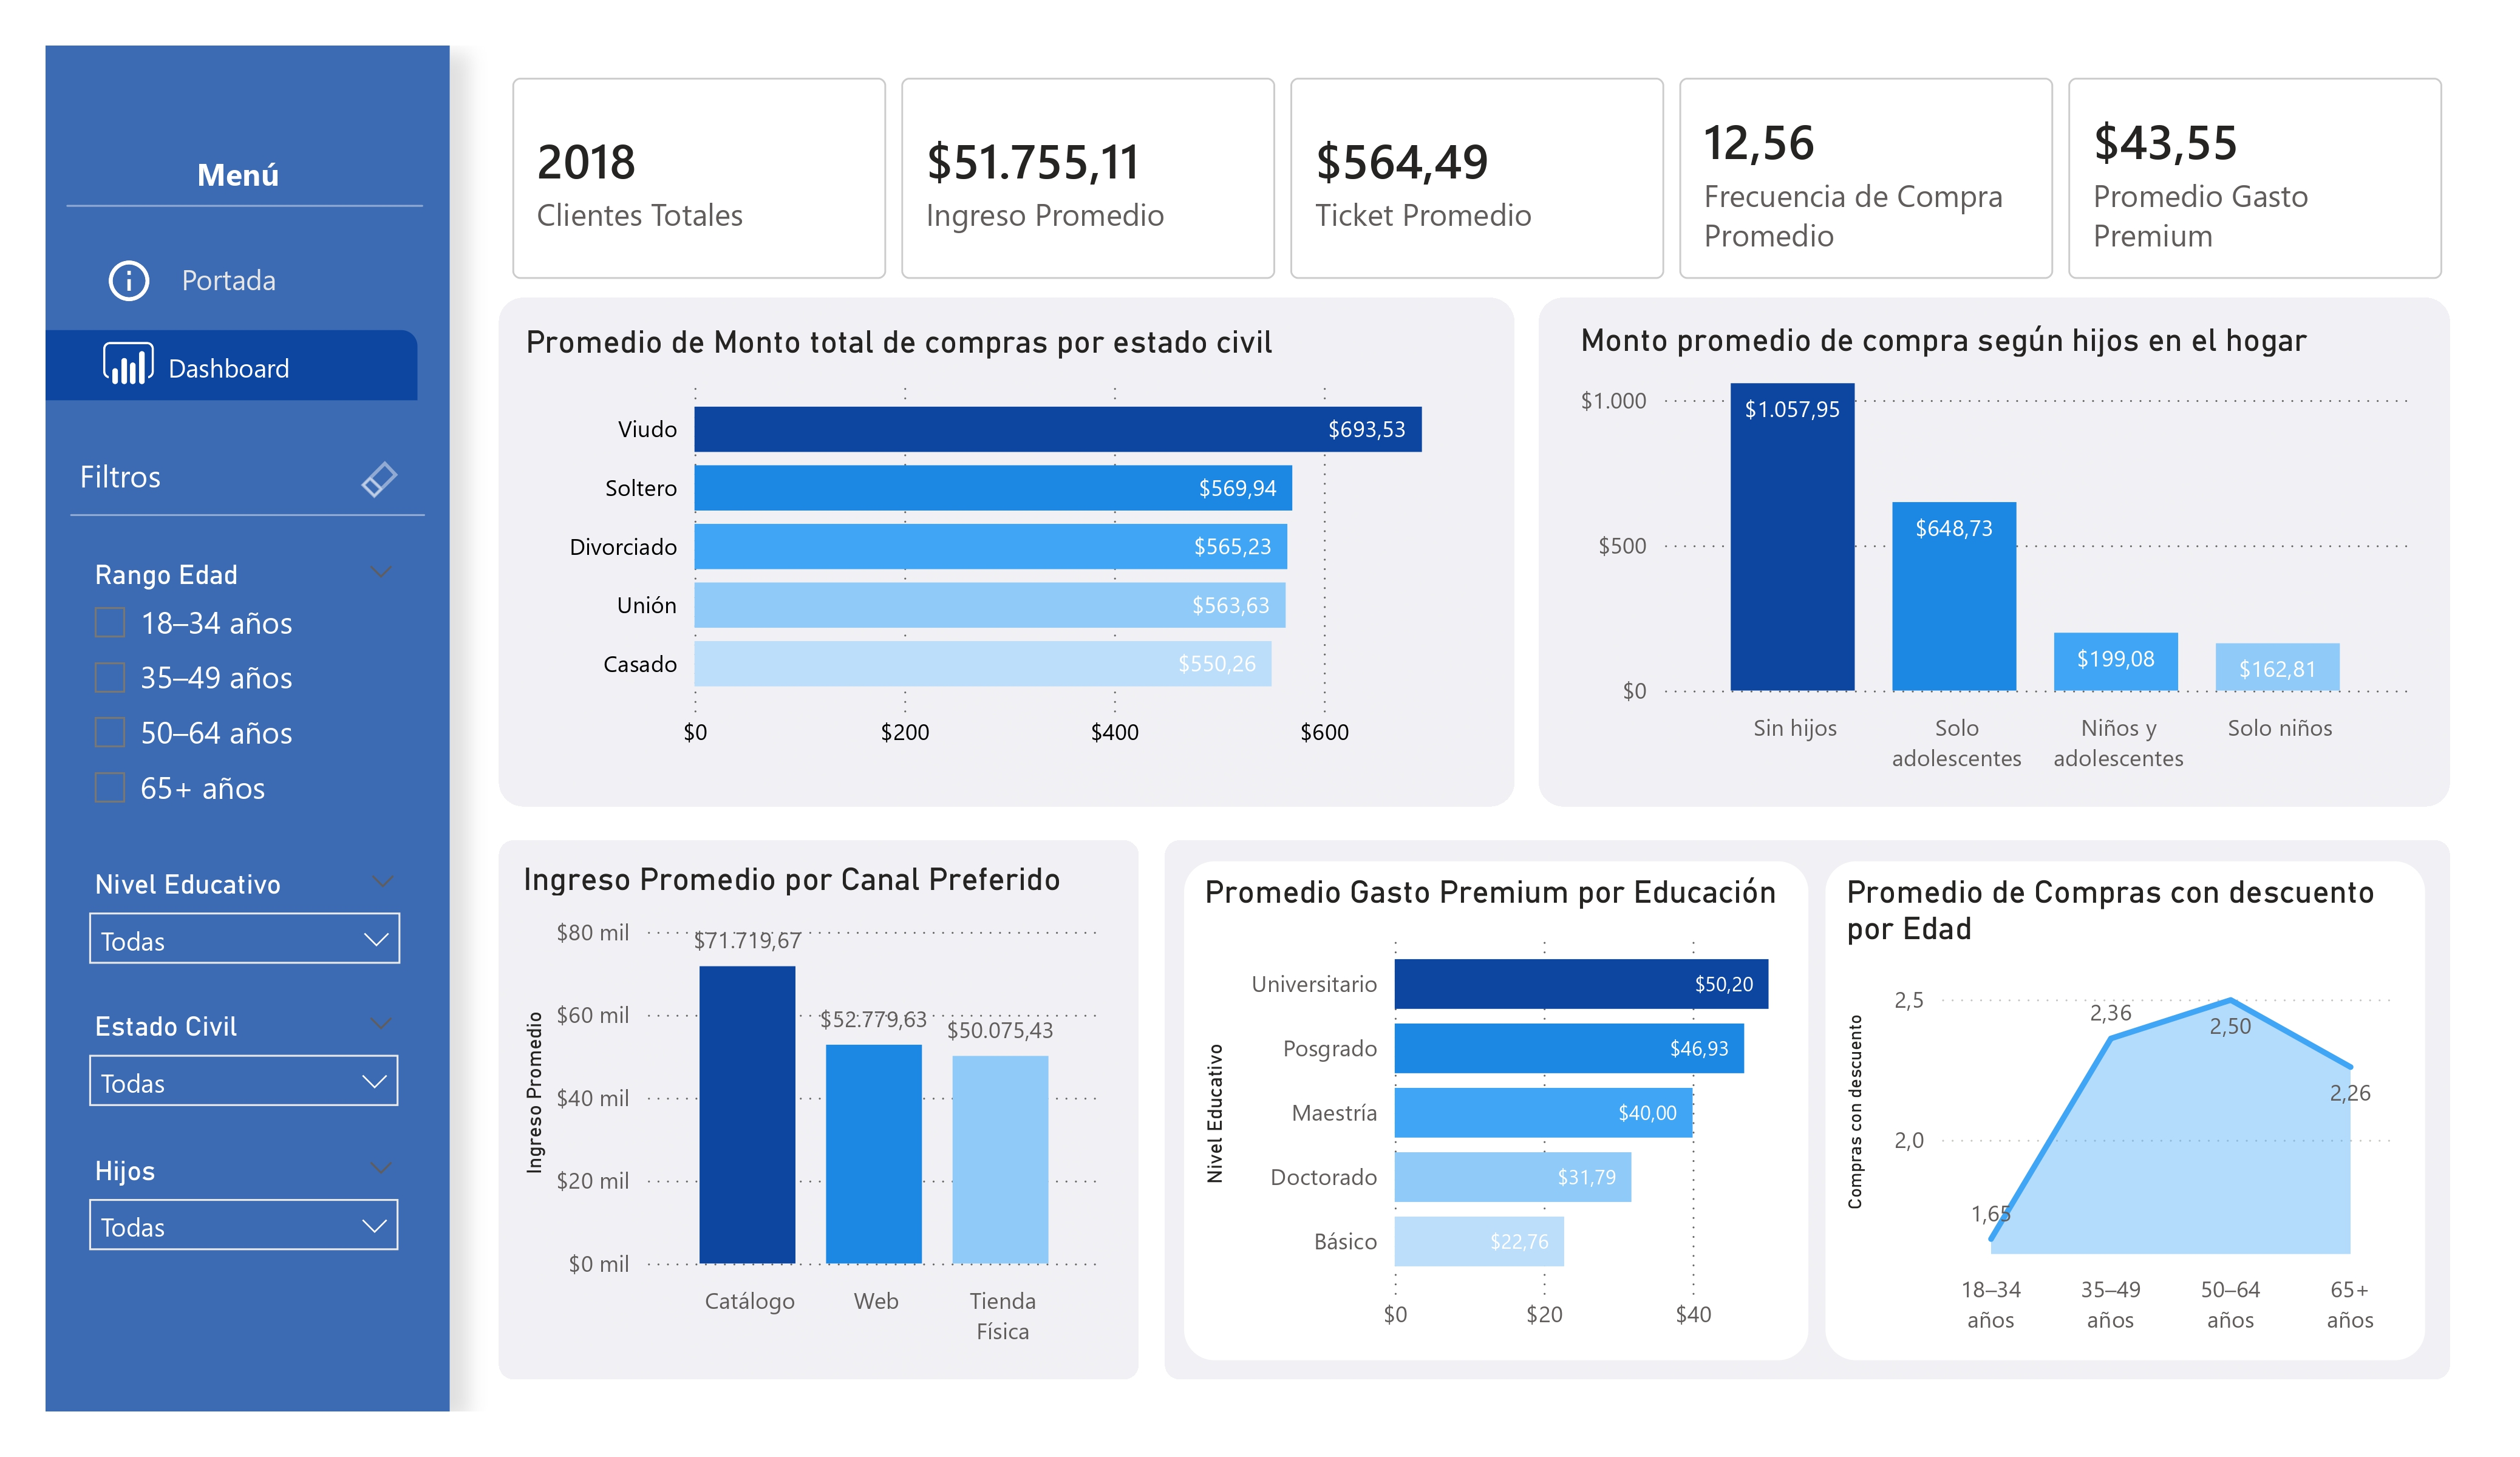

The page's visual inventory and layout, read from the dashboard file:
{"tool":"powerbi","page":{"name":"Dashboard","canvas":[1280,720],"ordinal":1},"visuals":[{"type":"image","box":[590,418.6,677.1,284.3],"z":0},{"type":"image","box":[238.6,418.6,337.1,284.3],"z":1000},{"type":"image","box":[238.6,132.9,535.7,268.6],"z":2000},{"type":"image","box":[787.1,132.9,480,268.6],"z":3000},{"type":"cardVisual","fields":{"Data":["dataset.Clientes Totales","dataset.Ingreso Promedio","dataset.Ticket Promedio","dataset.Frecuencia Compra Promedio","dataset.Mediana Gasto Premium por Cliente"]},"box":[228.6,0,1051.4,140],"z":4000},{"type":"clusteredColumnChart","title":"Monto promedio de compra según hijos en el hogar","fields":{"Category":["dataset.Categoría Hijos"],"Y":["dataset.Ticket Promedio"]},"box":[803.8,145,447.5,246.2],"z":5000},{"type":"shape","box":[0,0,213.3,720],"z":6000},{"type":"textbox","box":[12.9,52.4,177.1,32.9],"z":7000},{"type":"pageNavigator","box":[0,102.9,196.7,85],"z":8000},{"type":"image","box":[28.6,152.9,30,28.6],"z":9000},{"type":"image","box":[31.4,111.4,25.7,25.7],"z":10000},{"type":"textbox","box":[13.2,210.7,68.8,35.1],"z":11000},{"type":"actionButton","box":[162.3,213.1,27.7,30.8],"z":12000},{"type":"shape","box":[12.5,241.2,187.5,12.5],"z":13000},{"type":"slicer","fields":{"Values":["dataset.Rango de Edad"]},"box":[12.9,265.7,182.9,181.4],"z":14000},{"type":"slicer","fields":{"Values":["dataset.Education"]},"box":[12.9,429,183.8,68.8],"z":15000},{"type":"slicer","fields":{"Values":["dataset.Marital_Status"]},"box":[12.9,504.3,182.9,68.6],"z":16000},{"type":"slicer","fields":{"Values":["dataset.Categoría Hijos"]},"box":[12.9,580,182.9,68.6],"z":17000},{"type":"barChart","title":"Promedio de Monto total de compras por estado civil","fields":{"Category":["dataset.Marital_Status"],"Y":["dataset.Ticket Promedio"]},"box":[247.5,146.2,540,242.5],"z":18000},{"type":"shape","box":[11.4,78.1,187.1,12.9],"z":19000},{"type":"clusteredColumnChart","title":"Ingreso Promedio por Canal Preferido","fields":{"Category":["dataset.CanalPreferido"],"Y":["dataset.Ingreso Promedio"]},"box":[247.4,429.2,315.9,263.7],"z":20000},{"type":"areaChart","title":"Promedio de Compras con descuento por Edad","fields":{"Category":["dataset.Rango Edad"],"Y":["Avg(dataset.NumDealsPurchases)"]},"box":[937.5,430,316.2,262.5],"z":21000},{"type":"clusteredBarChart","title":"Promedio Gasto Premium por Educación","fields":{"Category":["dataset.Education"],"Y":["dataset.Mediana Gasto Premium por Cliente"]},"box":[600,430,328.8,262.5],"z":22000}]}

Visuals, with their boxes on the page's 1280x720 design canvas (x1, y1, x2, y2). These are canvas units, not pixel positions in the 2520x1457 screenshot, which may show the page scaled, cropped or inside an application window:
image: <box>590,419,1267,703</box>
image: <box>239,419,576,703</box>
image: <box>239,133,774,402</box>
image: <box>787,133,1267,402</box>
cardVisual - dataset.Clientes Totales x dataset.Ingreso Promedio: <box>229,0,1280,140</box>
"Monto promedio de compra según hijos en el hogar" clusteredColumnChart: <box>804,145,1251,391</box>
shape: <box>0,0,213,720</box>
textbox: <box>13,52,190,85</box>
pageNavigator: <box>0,103,197,188</box>
image: <box>29,153,59,182</box>
image: <box>31,111,57,137</box>
textbox: <box>13,211,82,246</box>
actionButton: <box>162,213,190,244</box>
shape: <box>12,241,200,254</box>
slicer - dataset.Rango de Edad: <box>13,266,196,447</box>
slicer - dataset.Education: <box>13,429,197,498</box>
slicer - dataset.Marital_Status: <box>13,504,196,573</box>
slicer - dataset.Categoría Hijos: <box>13,580,196,649</box>
"Promedio de Monto total de compras por estado civil" barChart: <box>248,146,788,389</box>
shape: <box>11,78,198,91</box>
"Ingreso Promedio por Canal Preferido" clusteredColumnChart: <box>247,429,563,693</box>
"Promedio de Compras con descuento por Edad" areaChart: <box>938,430,1254,692</box>
"Promedio Gasto Premium por Educación" clusteredBarChart: <box>600,430,929,692</box>
